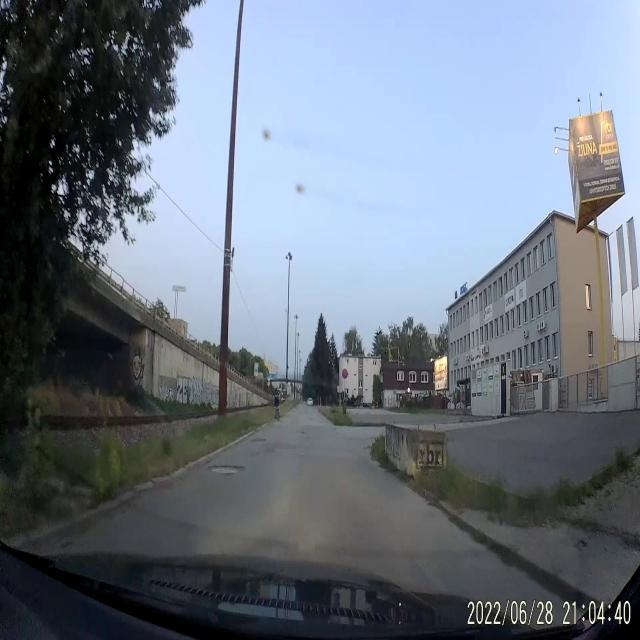Manhole: (252, 437, 266, 443)
Pothole: (208, 464, 246, 476)
